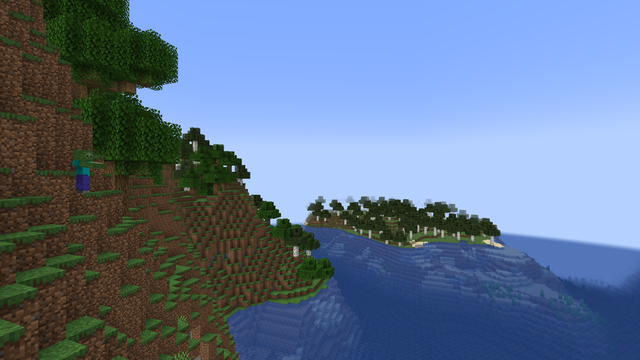zombies: (71, 150, 94, 193)
